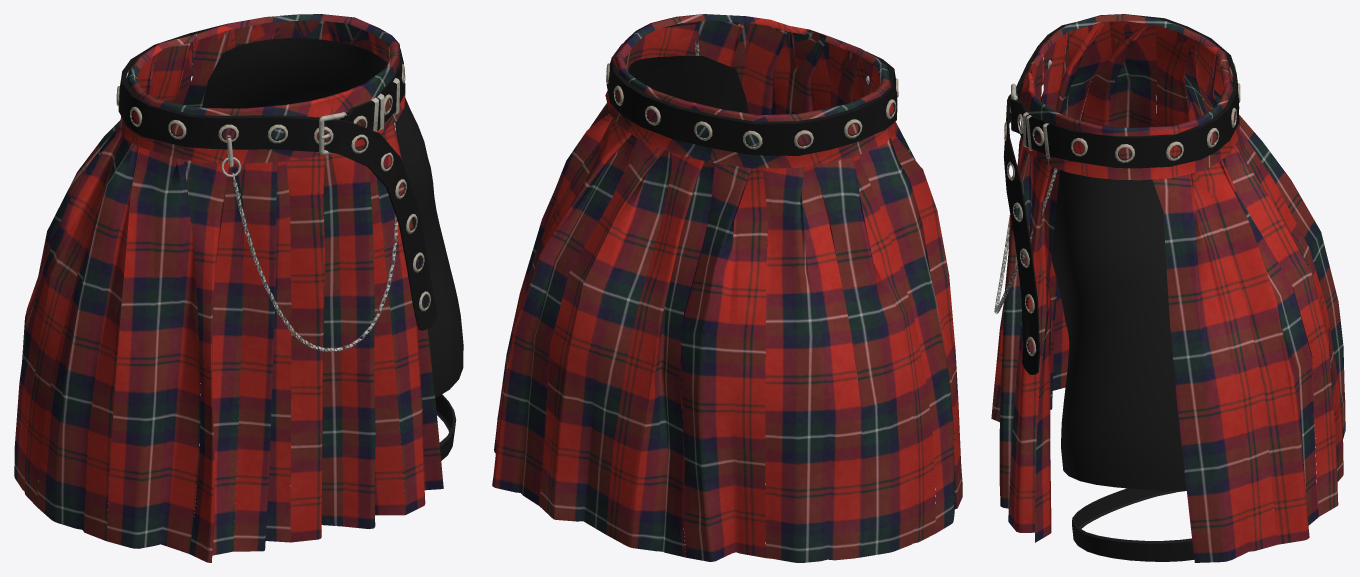
Rendered from plaid_skirt.glb.
3 renders of one model, left to right at view 1: azimuth 30°, elevation 25°; view 2: azimuth 150°, elevation 25°; view 3: azimuth 270°, elevation 25°, orthographic. The views are drawn at different scales.
Parts seen in each view (by area): view 1: plaid_skirt; view 2: plaid_skirt; view 3: plaid_skirt.
Boxes of the visible parts, x1,y1,x2,y2 form: plaid_skirt: (14,14,463,562); plaid_skirt: (492,14,962,562); plaid_skirt: (991,14,1345,562).
Bounding box in the file's own units: 0.4319 × 0.4262 × 0.3294.
1 material, 1 textured.
